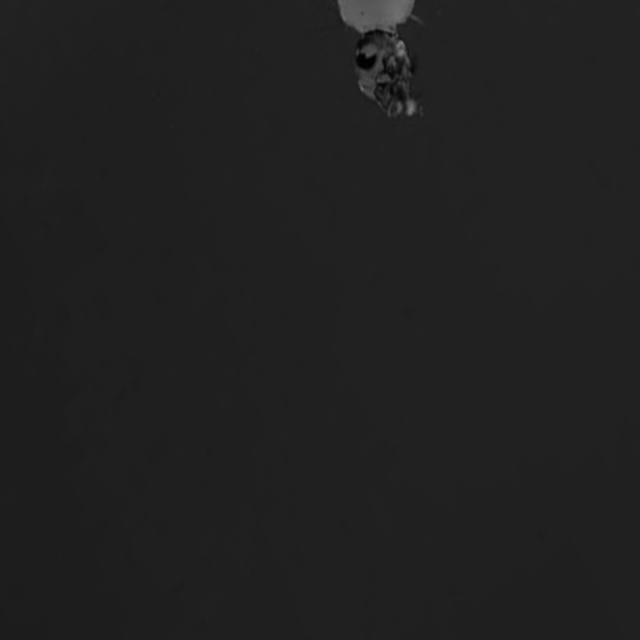larvas: (334, 0, 424, 128)
